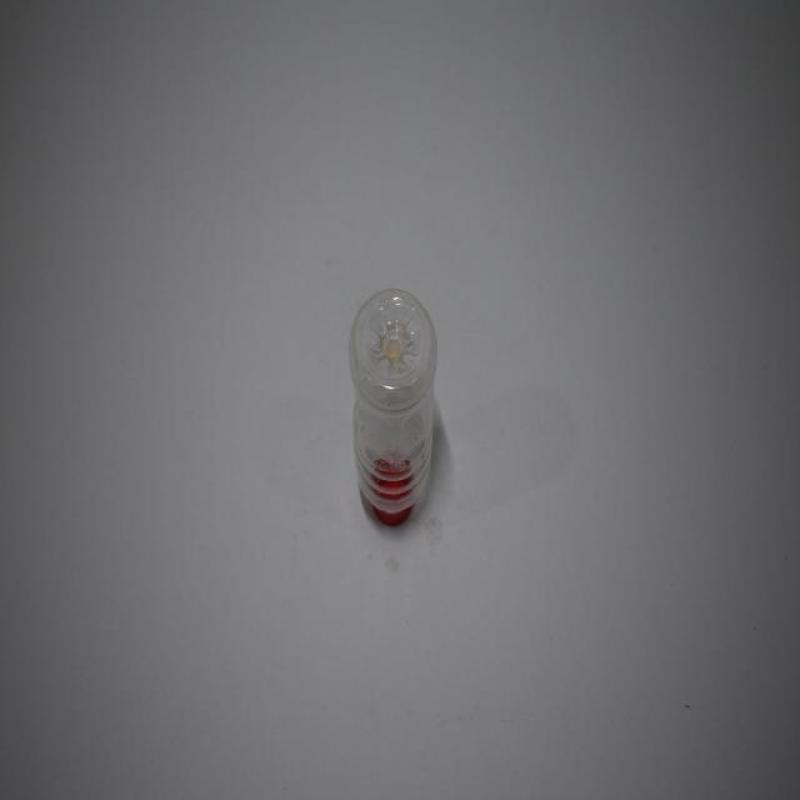botella: (346, 292, 438, 529)
